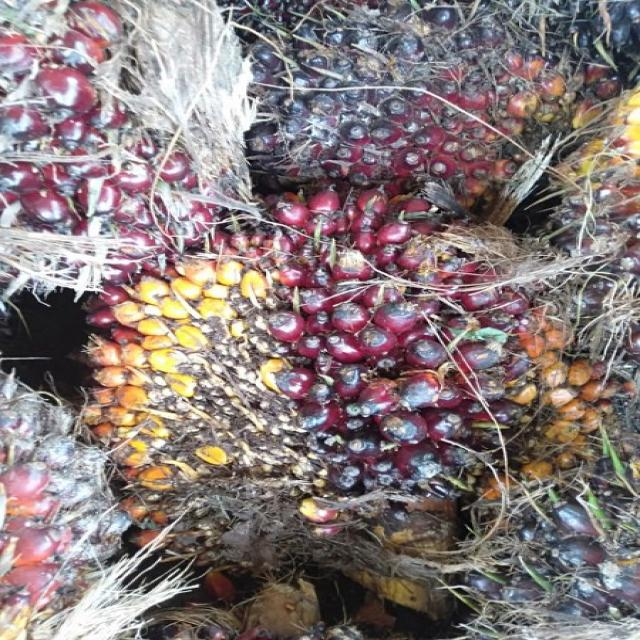fraksi 1: (71, 193, 516, 531)
